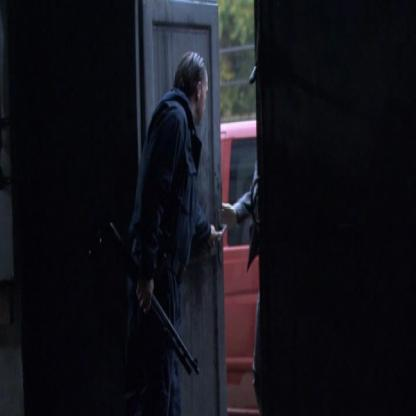Guns: (96, 216, 202, 381)
